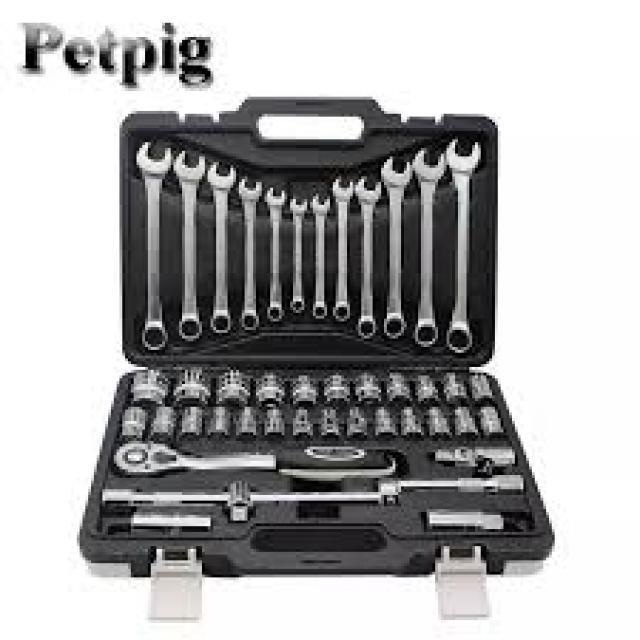wrench: (108, 438, 400, 484), (133, 137, 175, 356), (443, 136, 484, 358), (172, 146, 210, 344), (412, 144, 447, 352), (204, 157, 240, 336), (379, 150, 412, 338), (352, 172, 381, 342), (235, 174, 265, 336), (328, 172, 358, 322), (260, 183, 290, 324), (308, 194, 335, 322), (286, 194, 312, 316)
